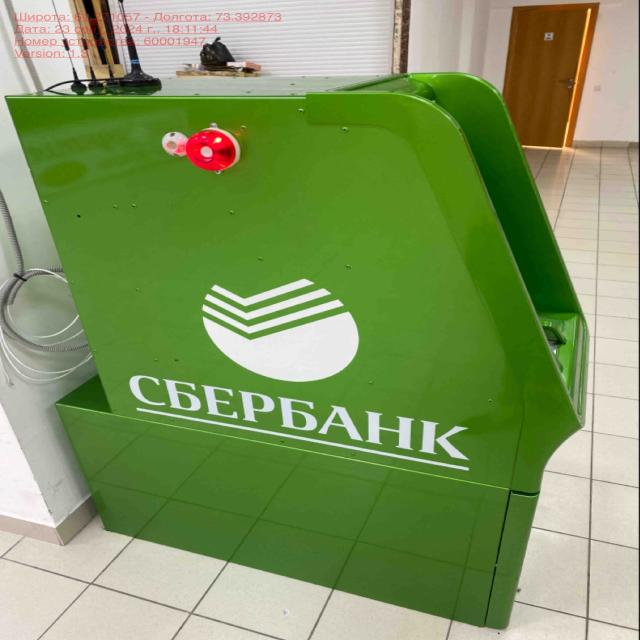bank: (7, 72, 592, 630)
